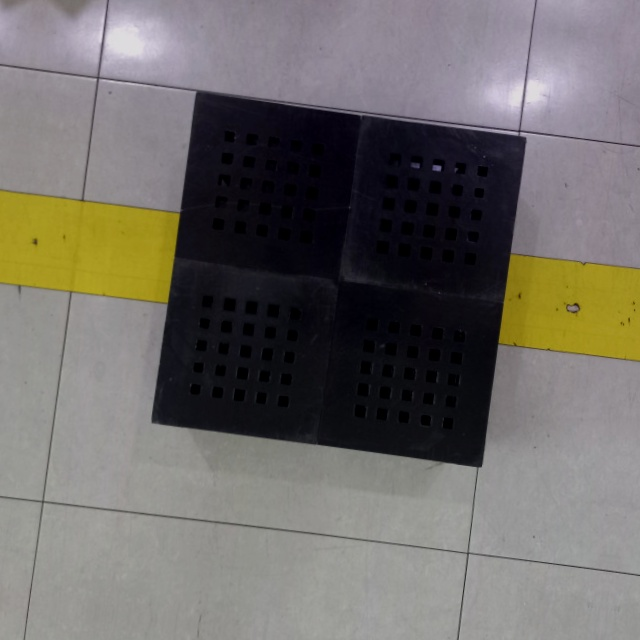pallet: (141, 87, 535, 476)
